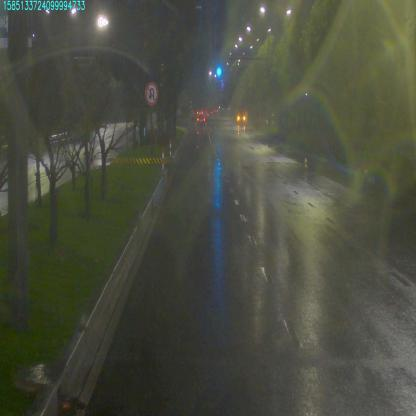traffic-light: (216, 62, 223, 80)
